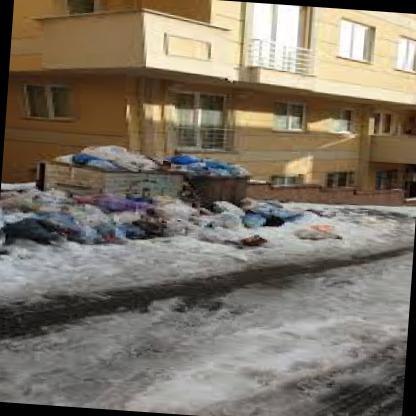Garbage: (0, 184, 315, 264), (27, 202, 125, 246), (58, 144, 150, 172), (168, 150, 250, 180), (214, 223, 271, 249), (148, 206, 202, 233), (294, 222, 354, 244), (70, 206, 112, 228), (2, 191, 43, 212), (232, 206, 266, 222)
